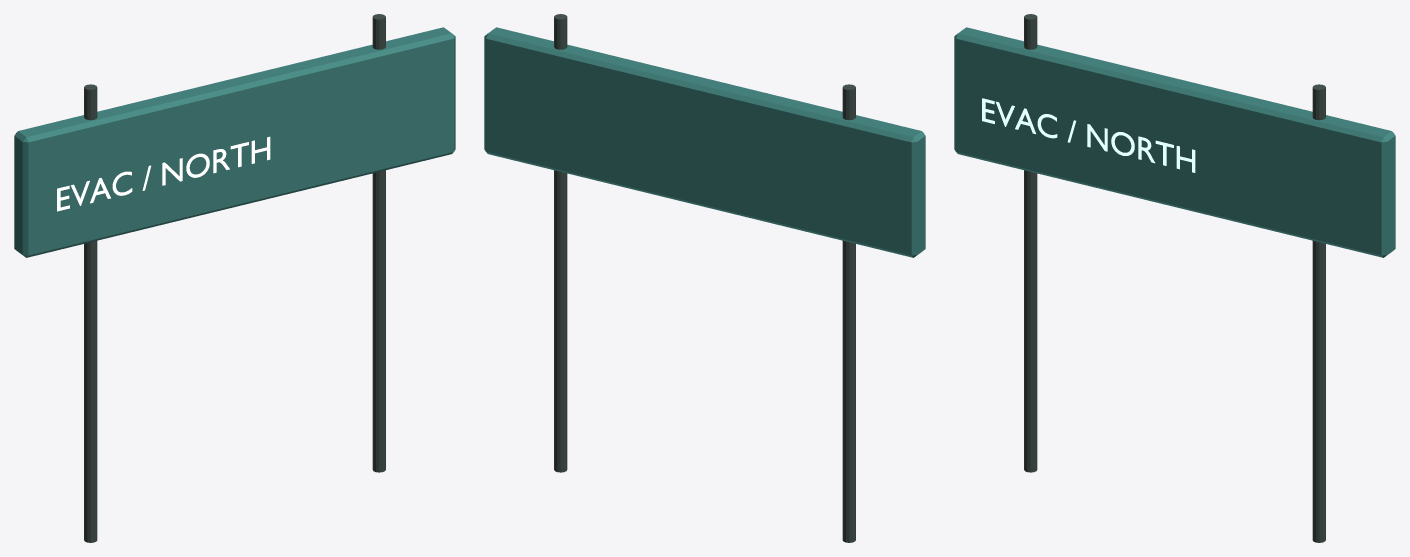
The model's file is evac_sign.glb.
The picture shows the model from 3 angles, left to right: view 1: azimuth 30°, elevation 25°; view 2: azimuth 150°, elevation 25°; view 3: azimuth 330°, elevation 25°; orthographic projection.
Visible parts, largest first — view 1: evac_sign.001; view 2: evac_sign.001; view 3: evac_sign.001.
Part boxes in pixels (box(x1,y1,x2,y2)): evac_sign.001: box(14, 14, 455, 542); evac_sign.001: box(484, 14, 925, 542); evac_sign.001: box(954, 14, 1395, 542).
Bounding box in the file's own units: 3 × 3 × 0.167.
